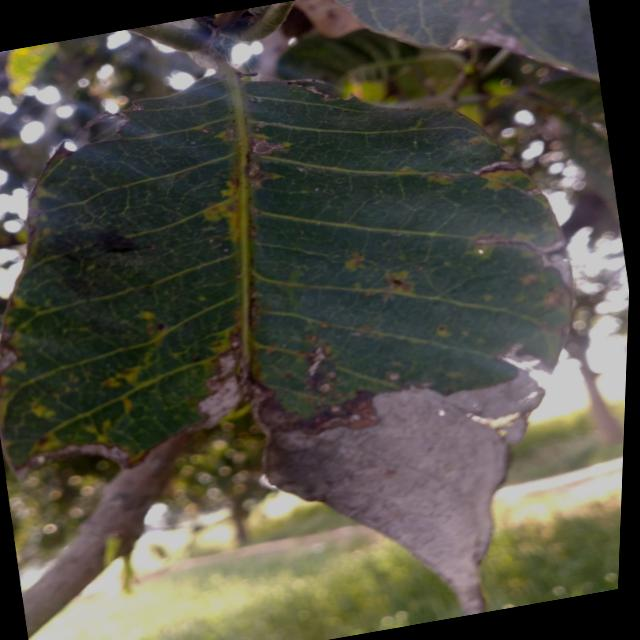Anthracnose: (357, 255, 423, 307)
Bacterial Cancer: (262, 363, 569, 583), (173, 357, 263, 430)
